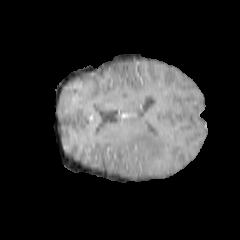glioma: (121, 127, 170, 163)
